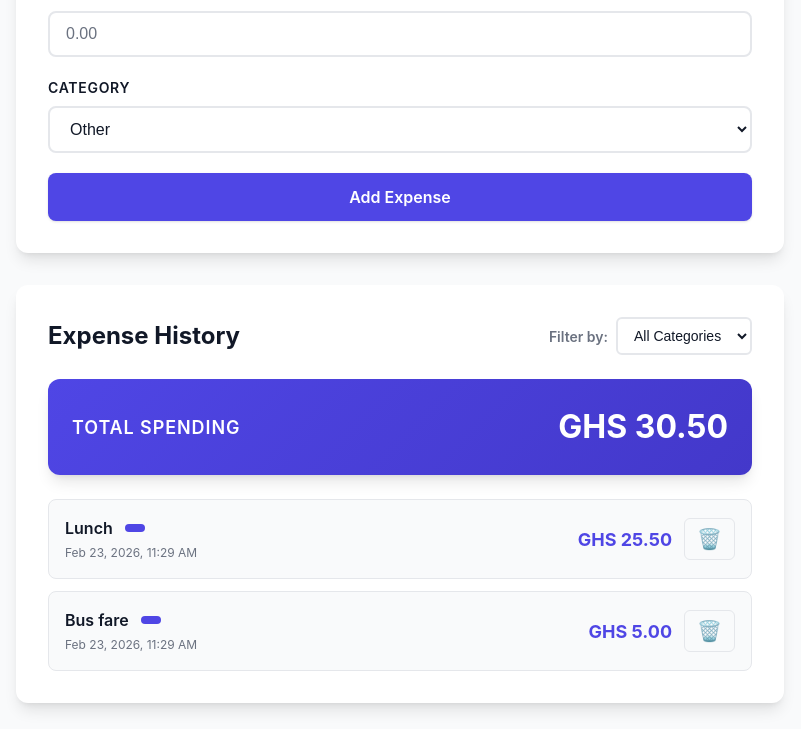
Test case: User Story 4: Delete Expense - Frontend UI › Acceptance Criteria #3: Total spending updates immediately › should refresh both expense list and total after deletion
This screenshot has width=801, height=729.
(page scrolled)
Expected: the text "Lunch" is shown, top-left (65, 516), bottom-right (113, 540)
Expected: the text "GHS 30.50" is shown, top-left (558, 403), bottom-right (728, 451)
Click the button named "delete".
click(710, 539)  # box top-left (684, 518), bottom-right (735, 560)
(page scrolled)
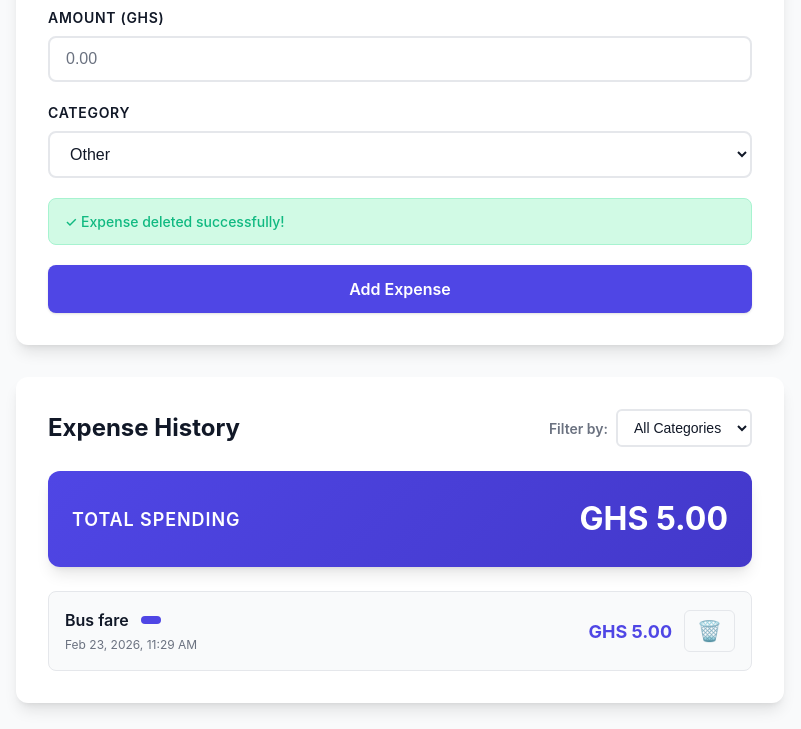
Expected: the text "Bus fare" is shown, top-left (65, 608), bottom-right (129, 632)
Expected: the text "GHS 5.00" in the row of "Total Spending" is shown, top-left (580, 495), bottom-right (728, 543)
